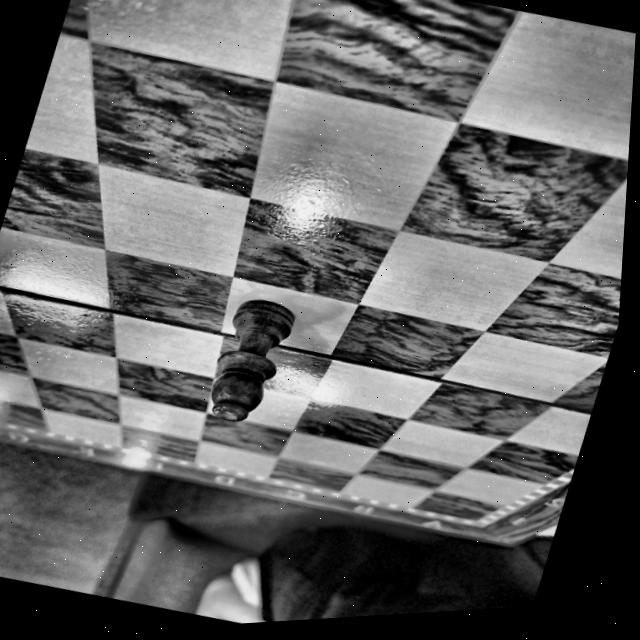black-bishop: (209, 299, 294, 420)
